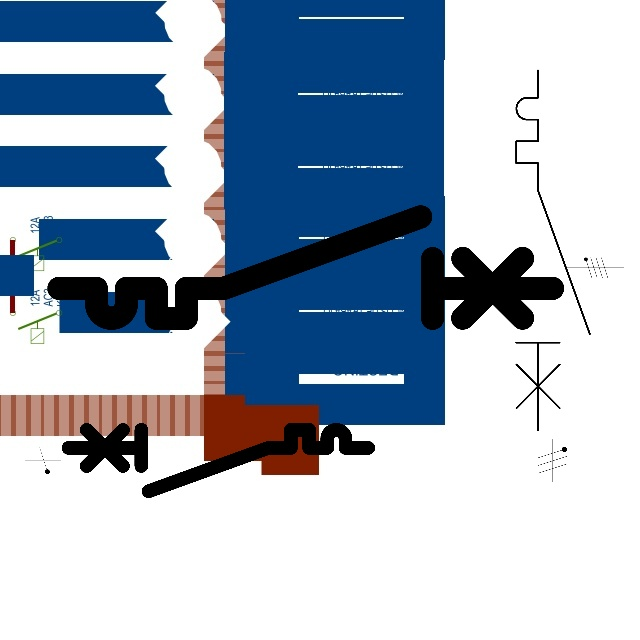interruptor_termomagnetico: (46, 204, 565, 331), (507, 61, 599, 439), (60, 422, 375, 499)
